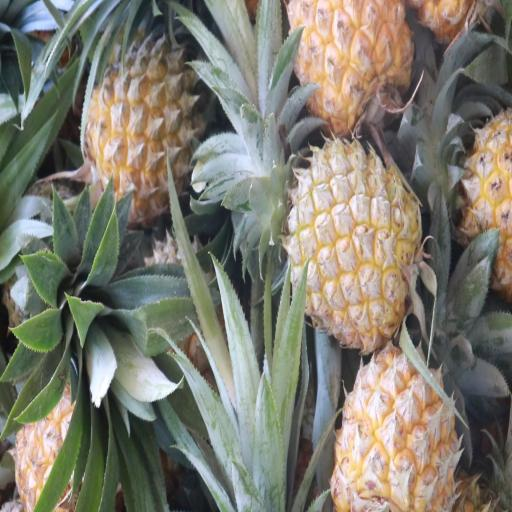------------------------------: (83, 44, 207, 218)
Pineapple - v8 v1: (290, 139, 422, 346), (335, 335, 462, 512), (292, 0, 413, 139)
